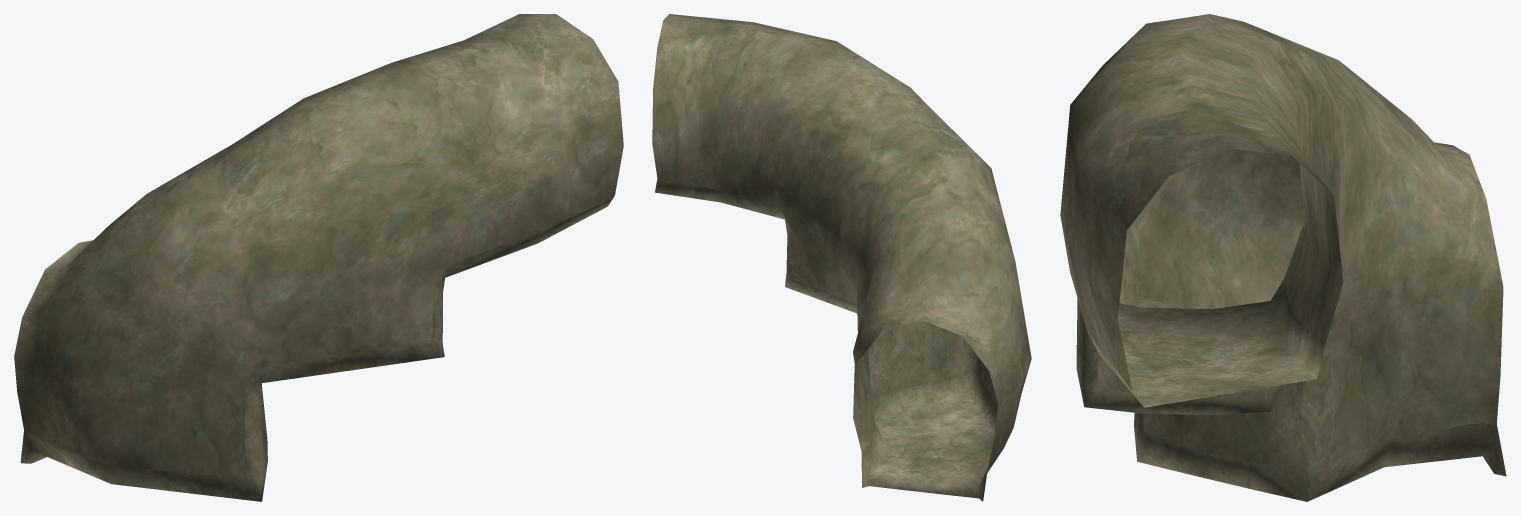
File: OVERHILL_A_01_STEP_CAVE.fbx
3 renders of one model, left to right at view 1: azimuth 30°, elevation 25°; view 2: azimuth 150°, elevation 25°; view 3: azimuth 270°, elevation 25°, orthographic. The views are drawn at different scales.
Parts seen in each view (by area): view 1: OVERHILL_A_01_STEP_CAVE; view 2: OVERHILL_A_01_STEP_CAVE; view 3: OVERHILL_A_01_STEP_CAVE.
Boxes of the visible parts, x1,y1,x2,y2 form: OVERHILL_A_01_STEP_CAVE: (14, 14, 623, 501); OVERHILL_A_01_STEP_CAVE: (652, 14, 1031, 501); OVERHILL_A_01_STEP_CAVE: (1060, 14, 1506, 501).
Size of the model in its own units: 130813 by 100195 by 73007.
1 material, 1 textured.
